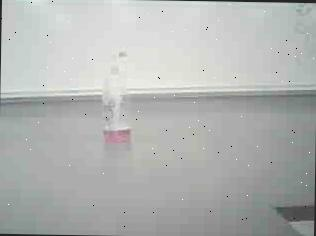hazard: (98, 42, 140, 147)
